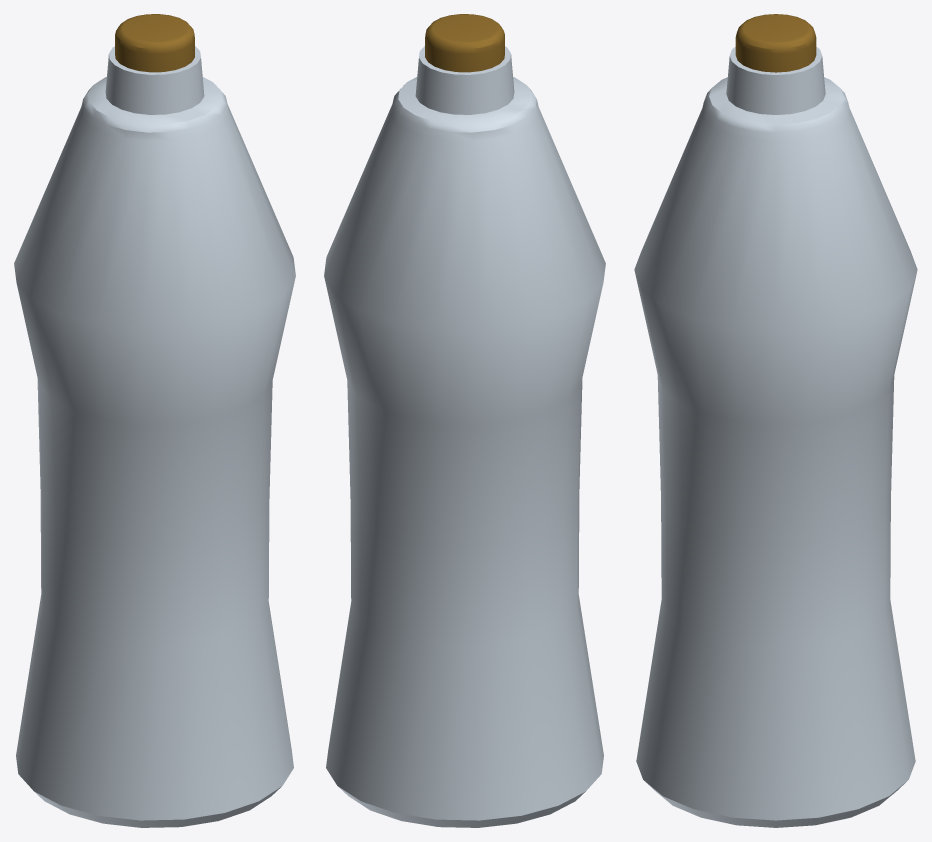
The model's file is plastic.fbx.
3 renders of one model, left to right at view 1: azimuth 30°, elevation 25°; view 2: azimuth 150°, elevation 25°; view 3: azimuth 270°, elevation 25°, orthographic.
Visible parts, largest first — view 1: pCylinder1; view 2: pCylinder1; view 3: pCylinder1.
Part boxes in pixels (box(x1,y1,x2,y2)): pCylinder1: box(14, 14, 295, 827); pCylinder1: box(324, 14, 605, 827); pCylinder1: box(634, 14, 917, 827).
Size of the model in its own units: 0.2532 by 0.7358 by 0.2532.
